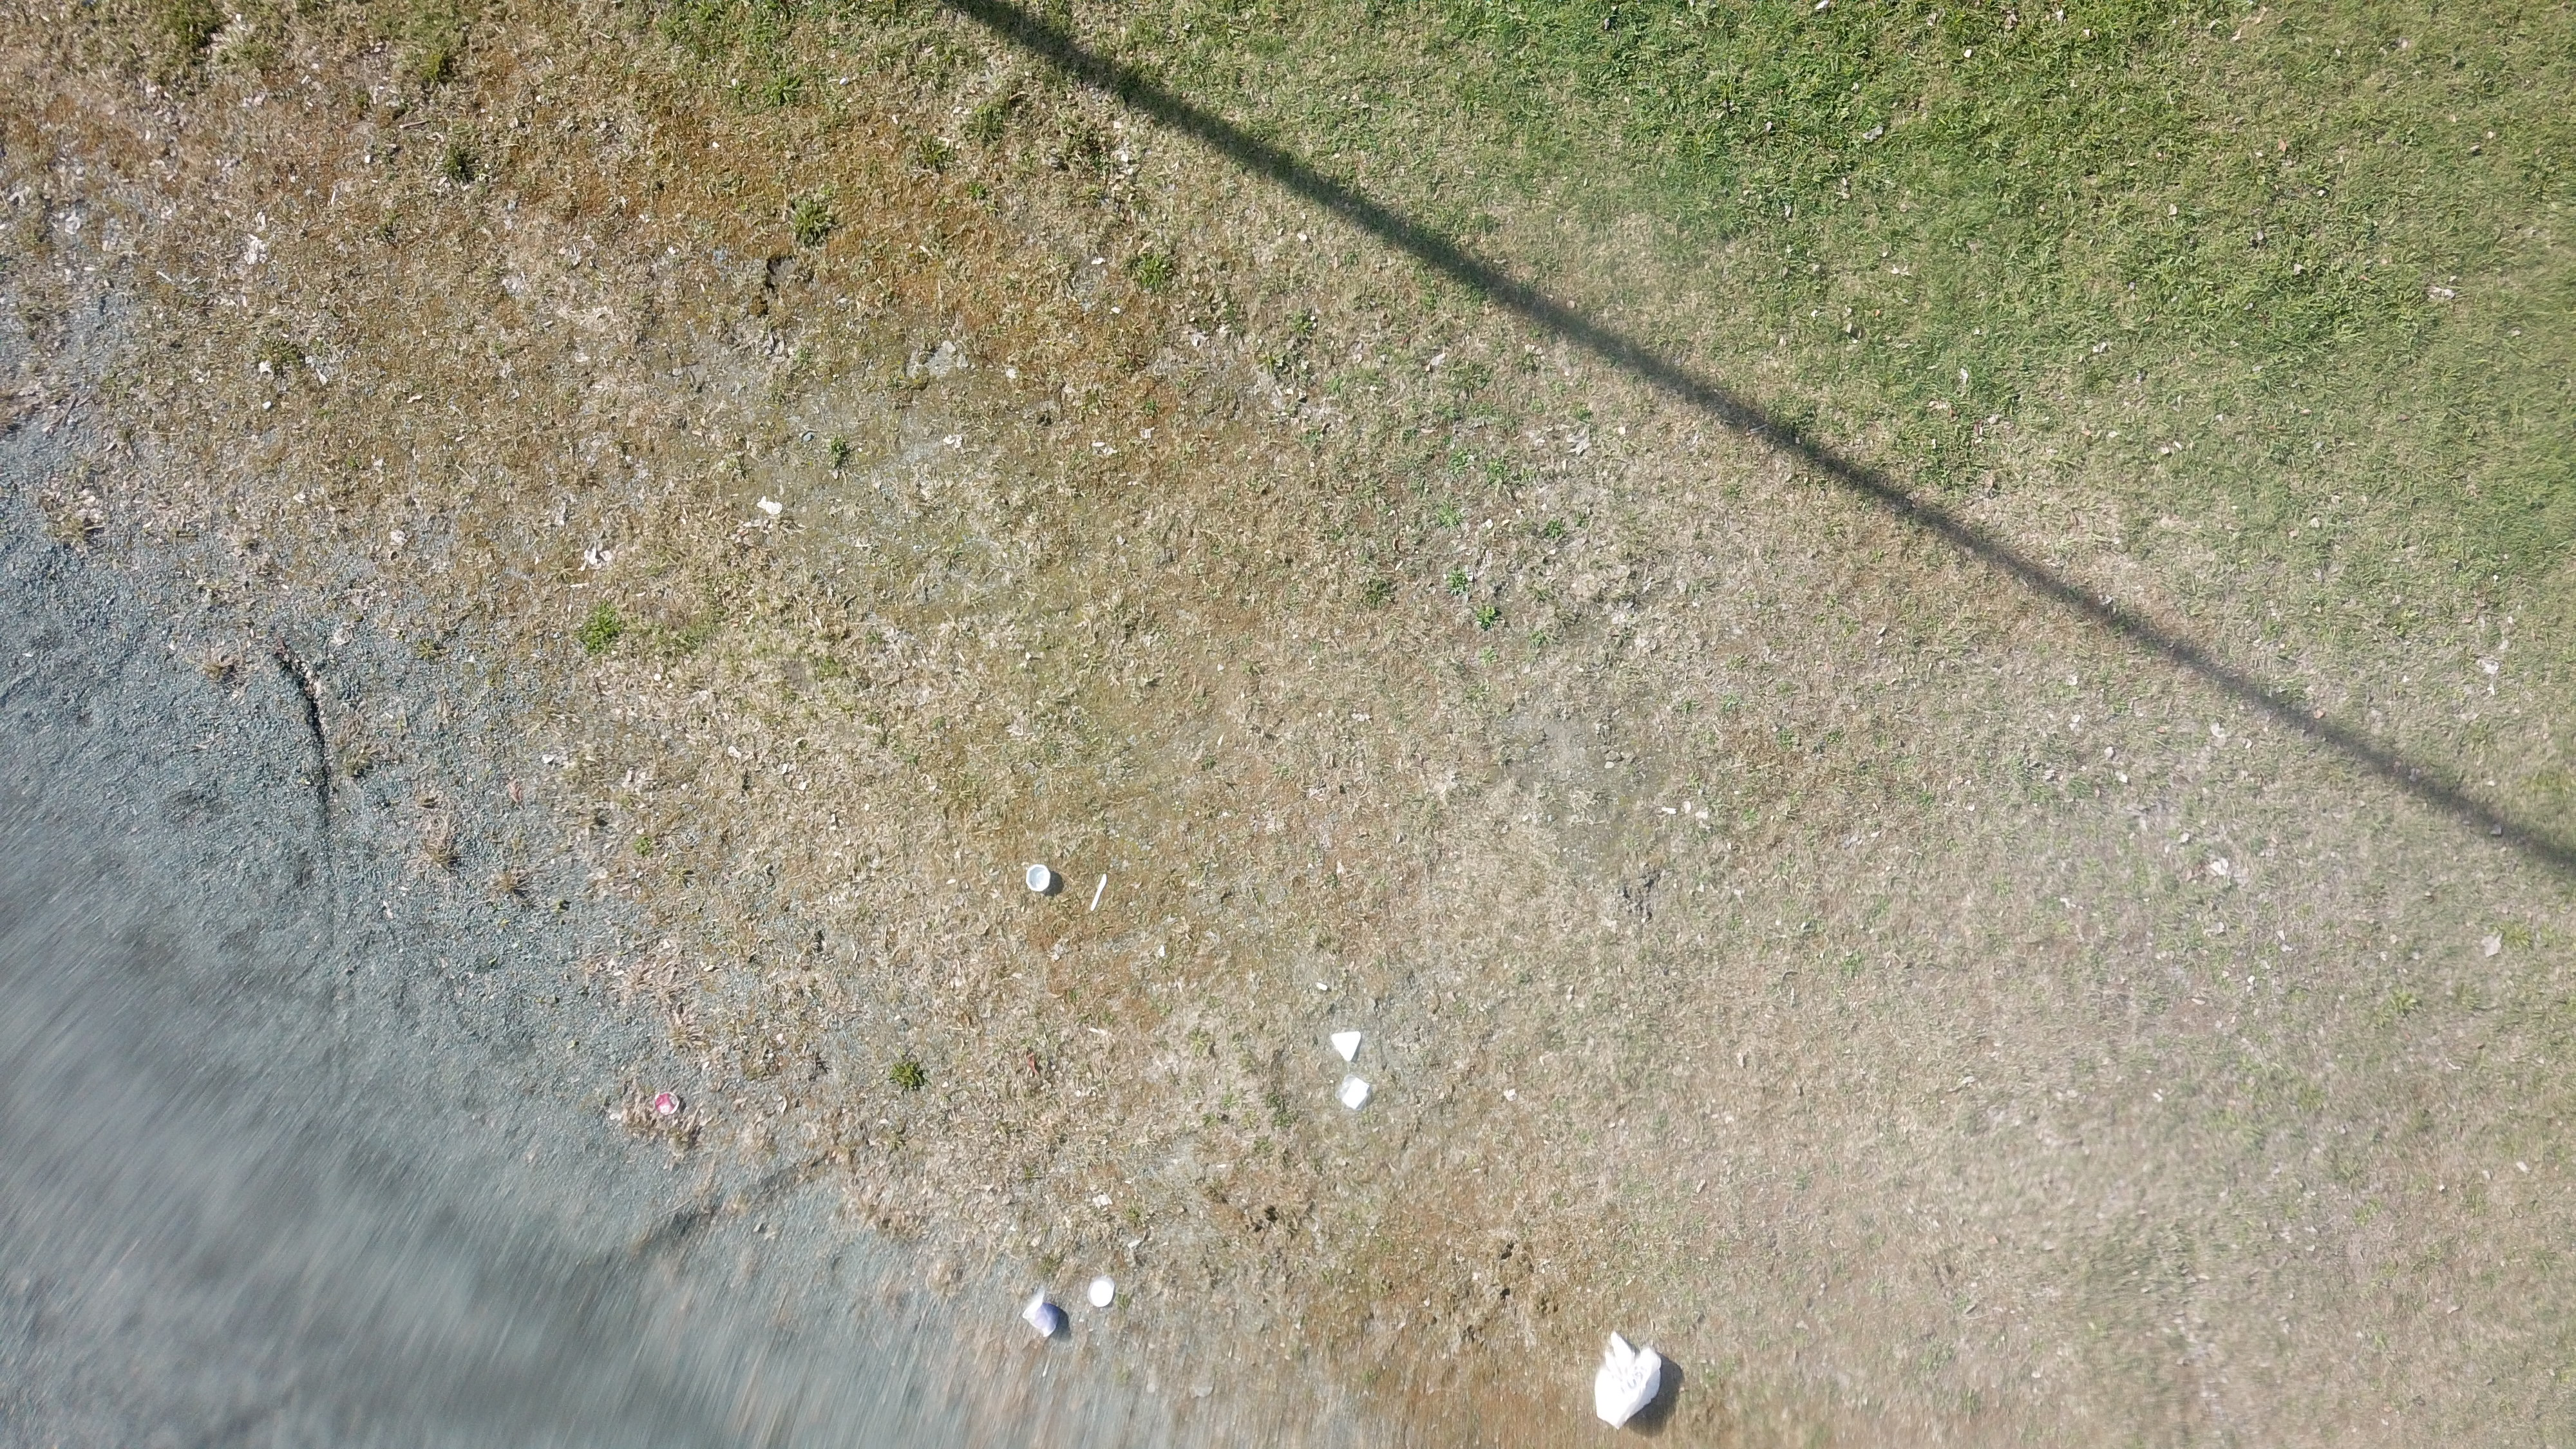Plastic: (1596, 1330, 1663, 1430), (1023, 1299, 1058, 1338), (1336, 1076, 1371, 1111), (1086, 1277, 1116, 1307), (1330, 1030, 1359, 1062), (1024, 863, 1051, 893), (655, 1093, 683, 1116), (1092, 874, 1108, 913), (759, 497, 786, 515)
